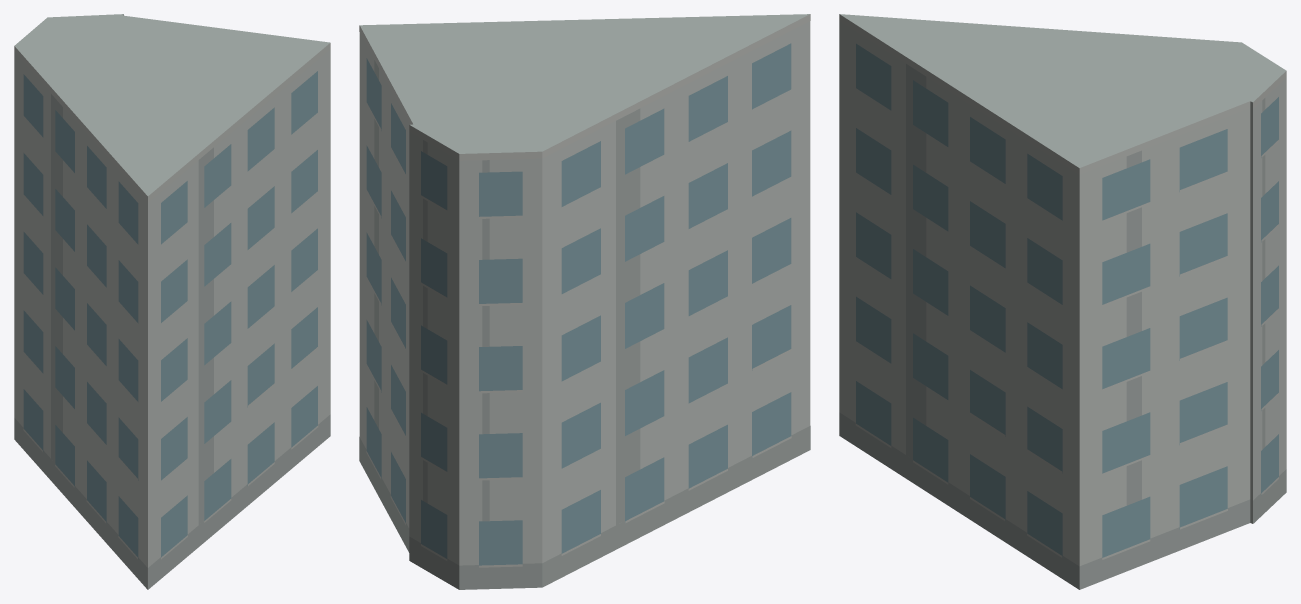
Rendered from survey-upis-32639511.glb.
3 renders of one model, left to right at view 1: azimuth 30°, elevation 25°; view 2: azimuth 150°, elevation 25°; view 3: azimuth 270°, elevation 25°, orthographic. The views are drawn at different scales.
Visible parts, largest first — view 1: survey-upis-32639511.tmp; view 2: survey-upis-32639511.tmp; view 3: survey-upis-32639511.tmp.
Part boxes in pixels (x1=…): survey-upis-32639511.tmp: x1=14, y1=14, x2=330, y2=589; survey-upis-32639511.tmp: x1=359, y1=14, x2=810, y2=589; survey-upis-32639511.tmp: x1=839, y1=14, x2=1286, y2=589.
Bounding box in the file's own units: 11.97 × 15.25 × 14.67.
